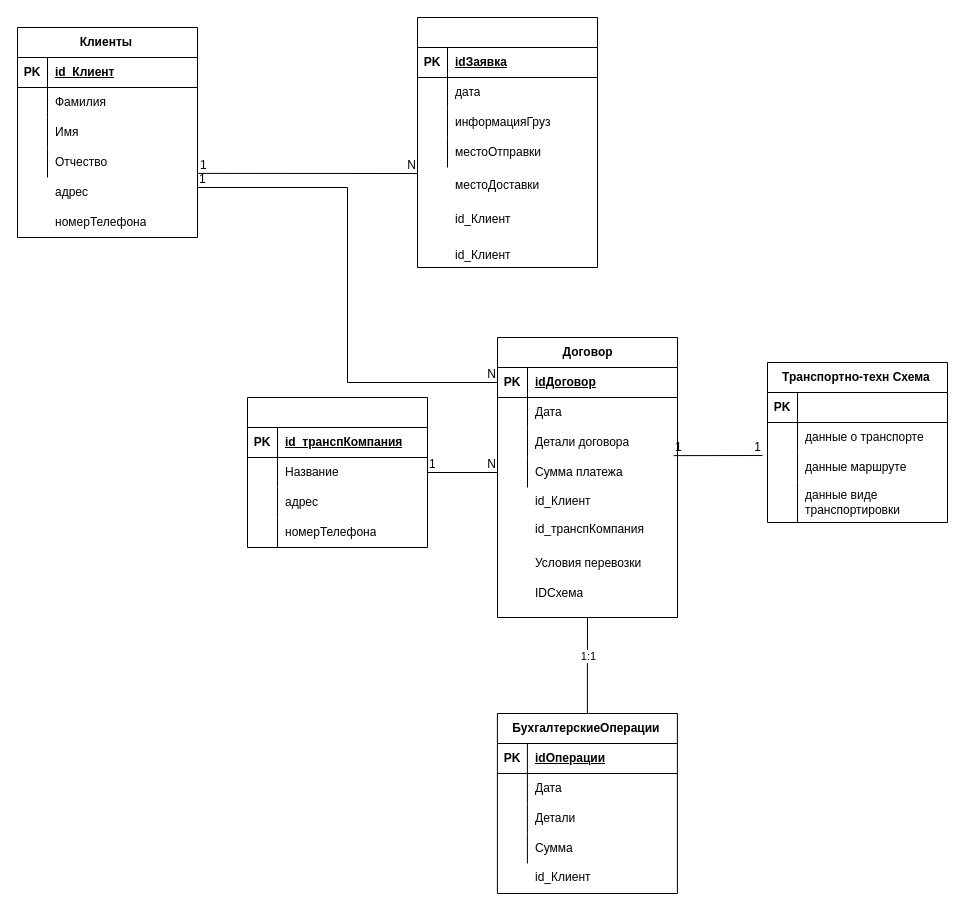
Some shapes in this 965 by 911 pixel diagram are drawn without their labels. Each missing label, with the box of its shape:
ЗаявкиНаПеревозку: (416, 16, 598, 268)
ТранспортнаяКомпания: (246, 396, 428, 548)
